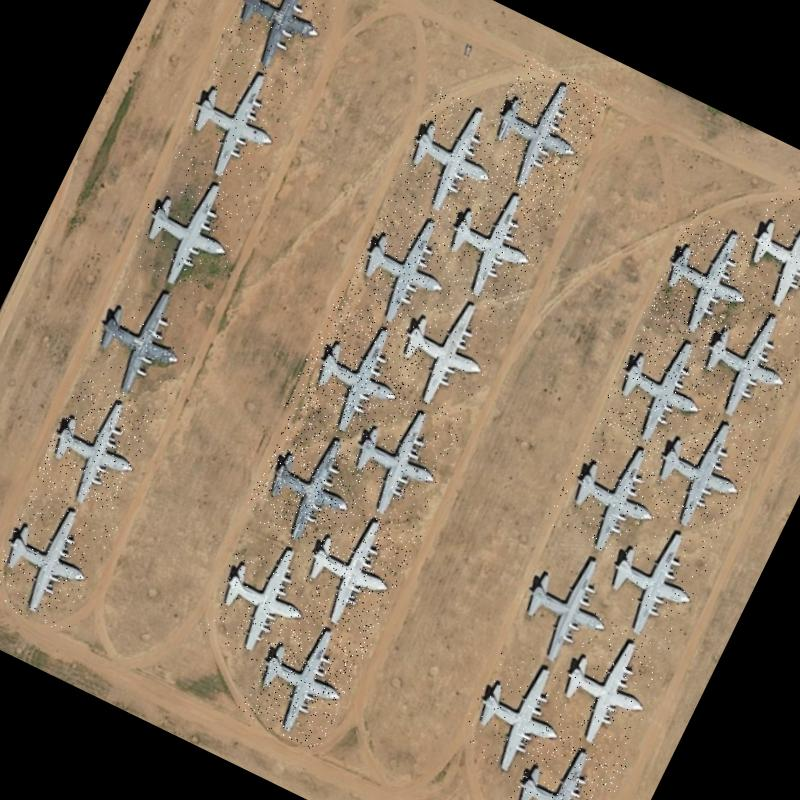A2: (282, 298, 430, 451), (501, 530, 642, 684), (470, 55, 610, 209), (72, 264, 213, 416), (338, 190, 478, 343), (449, 643, 590, 793), (594, 316, 732, 465), (542, 420, 682, 566), (120, 156, 260, 302), (235, 604, 371, 754), (241, 413, 381, 558), (378, 274, 515, 422), (167, 47, 303, 196), (286, 494, 421, 642), (195, 522, 328, 672), (334, 382, 468, 530), (588, 505, 722, 650), (428, 171, 562, 315), (636, 397, 768, 543), (544, 612, 675, 755), (30, 374, 160, 517), (642, 208, 770, 351), (390, 84, 518, 224), (0, 486, 117, 638), (686, 291, 800, 432), (215, 0, 349, 84), (726, 177, 800, 326), (491, 720, 628, 800)
